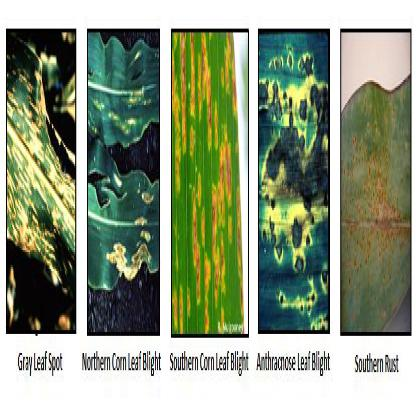Corn Gray leaf spot: (5, 40, 76, 336)
